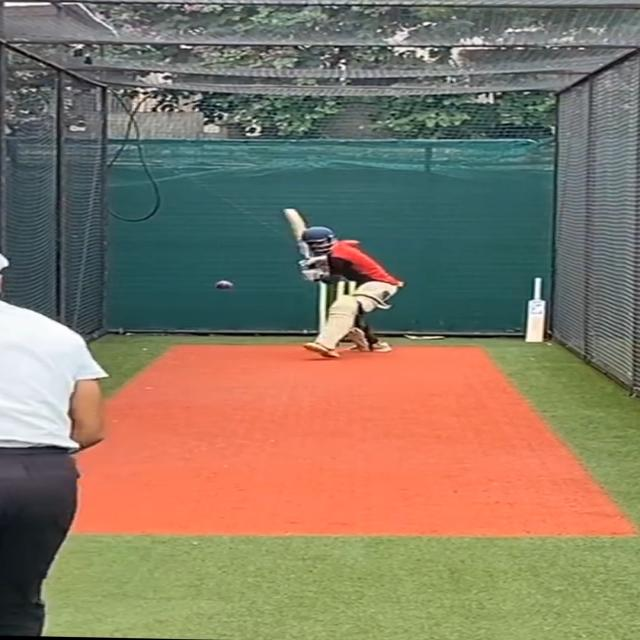ball: (210, 276, 240, 292)
stump: (312, 279, 366, 344)
